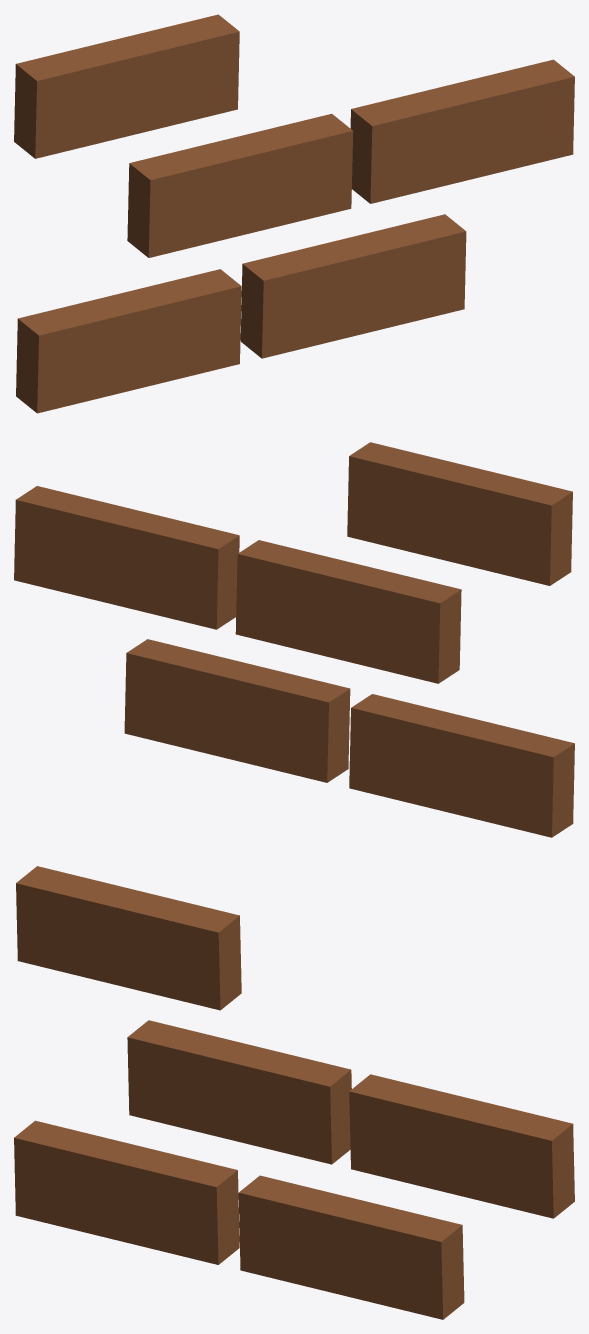
Rendered from brick_group_01.fbx.
The picture shows the model from 3 angles, top to bottom: view 1: azimuth 30°, elevation 25°; view 2: azimuth 150°, elevation 25°; view 3: azimuth 330°, elevation 25°; orthographic projection.
Parts seen in each view (by area): view 1: brick_group_01; view 2: brick_group_01; view 3: brick_group_01.
Part boxes in pixels (x1=…): brick_group_01: x1=14, y1=14, x2=574, y2=413; brick_group_01: x1=14, y1=442, x2=574, y2=837; brick_group_01: x1=14, y1=866, x2=574, y2=1319.
Bounding box in the file's own units: 77.97 × 46.34 × 6.3.
Materials: 1 (1 with a texture image).
